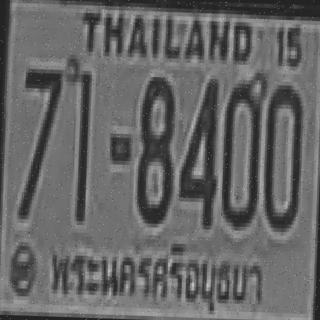N00: (220, 78, 262, 225), (262, 81, 302, 228)
N01: (73, 68, 91, 219)
N04: (178, 72, 218, 224)
N07: (18, 64, 62, 216)
N08: (134, 72, 174, 220)
P03: (42, 235, 270, 314)
